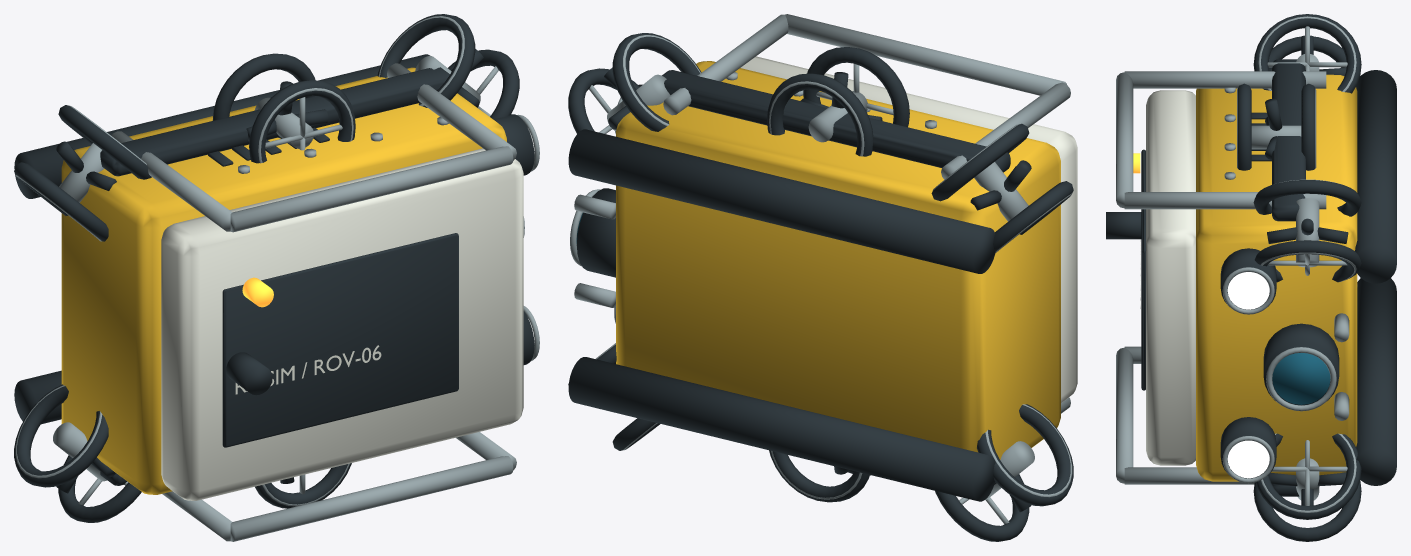
The model's file is rov.glb.
3 renders of one model, left to right at view 1: azimuth 30°, elevation 25°; view 2: azimuth 150°, elevation 25°; view 3: azimuth 270°, elevation 25°, orthographic. The views are drawn at different scales.
Parts seen in each view (by area): view 1: rov; view 2: rov; view 3: rov.
Part boxes in pixels (x1,y1,x2,y2): rov: (14,14,539,541); rov: (568,14,1077,541); rov: (1106,14,1396,541).
Bounding box in the file's own units: 0.8036 × 0.674 × 0.469.
